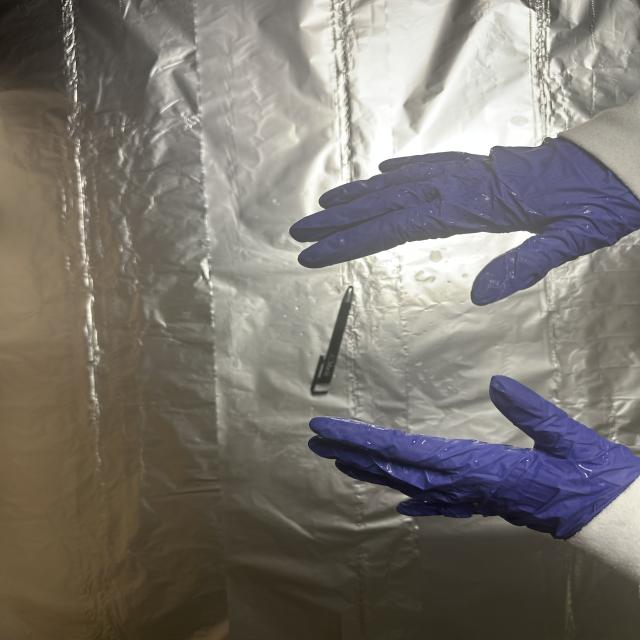gloves_contaminated: (290, 139, 640, 305), (309, 376, 640, 539)
